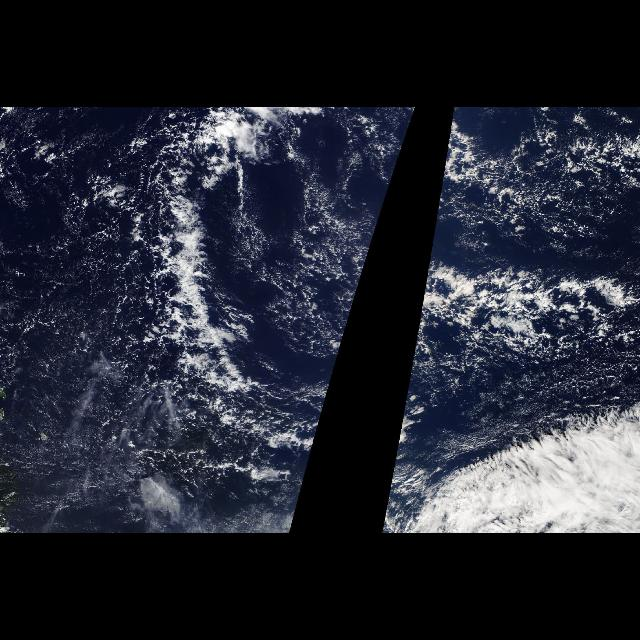Fish: (121, 107, 362, 493)
Gravel: (427, 108, 639, 262), (405, 108, 417, 140)
Sugar: (2, 110, 176, 528), (480, 111, 638, 275), (234, 161, 326, 427), (430, 357, 638, 418)
